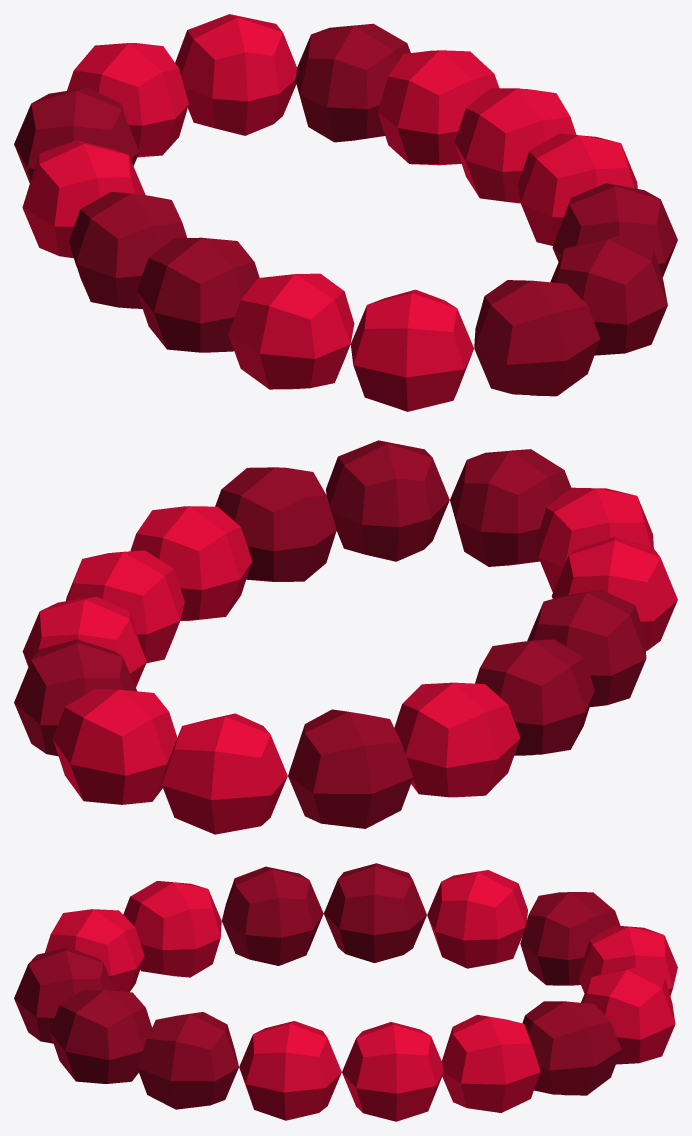
File: Busy.fbx
3 renders of one model, top to bottom at view 1: azimuth 30°, elevation 25°; view 2: azimuth 150°, elevation 25°; view 3: azimuth 270°, elevation 25°, orthographic. The views are drawn at different scales.
Parts seen in each view (by area): view 1: Busy; view 2: Busy; view 3: Busy.
Boxes of the visible parts, x1,y1,x2,y2 form: Busy: (14, 14, 677, 411); Busy: (14, 440, 677, 834); Busy: (14, 863, 677, 1121).
Bounding box in the file's own units: 34.28 × 7.42 × 47.52.
